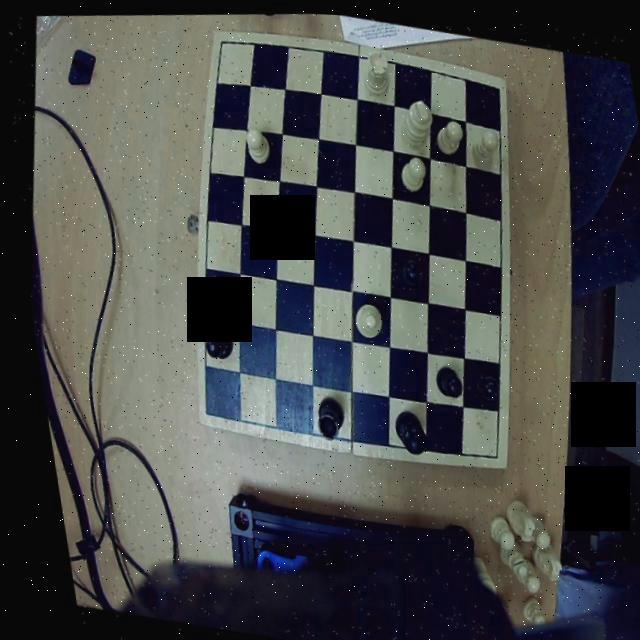chess-table-corners: (188, 396, 216, 426), (484, 71, 508, 103), (472, 439, 498, 467), (213, 28, 238, 54)
